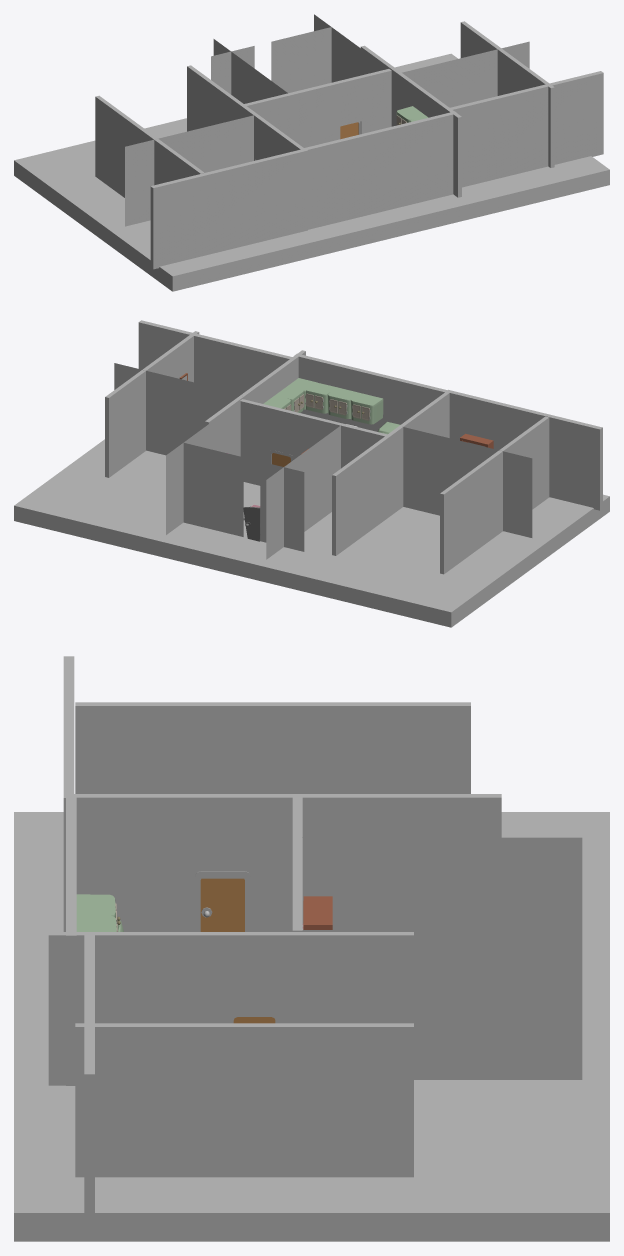
The model's file is Rose and Kirk.fbx.
The picture shows the model from 3 angles, top to bottom: view 1: azimuth 30°, elevation 25°; view 2: azimuth 150°, elevation 25°; view 3: azimuth 270°, elevation 25°; orthographic projection. The views are drawn at different scales.
Visible parts, largest first — view 1: Cube__1_, Cube__10_, Cube__4_, Cube__7_, Quad__4_, Cube__9_, Cube__5_, Quad__5_, Quad__6_, Cube__8_, Cube__11_, Cube (+9 smaller); view 2: Cube__1_, Cube__10_, Cube__9_, Quad__4_, Cube__11_, Cube__7_, Quad__5_, Quad__6_, Cube__8_, Cube__4_, Quad__1_, Quad (+11 smaller); view 3: Cube__1_, Cube__8_, Cube__9_, Quad, Quad__1_, Cube__13_, Cube__3_, Cube__11_, Cube__2_, Cube__14_, Cube__12_, Cube__7_ (+7 smaller).
Boxes of the visible parts, bbox=[...] form: Cube__1_: bbox=[14, 53, 609, 291]; Cube__10_: bbox=[150, 149, 307, 269]; Cube__4_: bbox=[300, 111, 457, 229]; Cube__7_: bbox=[448, 71, 603, 187]; Quad__4_: bbox=[125, 115, 253, 226]; Cube__9_: bbox=[95, 95, 204, 197]; Cube__5_: bbox=[242, 82, 340, 147]; Quad__5_: bbox=[402, 41, 529, 107]; Quad__6_: bbox=[271, 27, 331, 93]; Cube__8_: bbox=[460, 21, 554, 167]; Cube__11_: bbox=[187, 65, 257, 160]; Cube: bbox=[360, 69, 391, 133]; Cube__1_: bbox=[14, 439, 609, 627]; Cube__10_: bbox=[445, 389, 602, 510]; Cube__9_: bbox=[440, 416, 549, 574]; Quad__4_: bbox=[403, 427, 532, 537]; Cube__11_: bbox=[332, 426, 404, 555]; Cube__7_: bbox=[138, 320, 294, 393]; Quad__5_: bbox=[114, 363, 241, 455]; Quad__6_: bbox=[183, 443, 243, 536]; Cube__8_: bbox=[105, 331, 199, 477]; Cube__4_: bbox=[294, 354, 449, 437]; Quad__1_: bbox=[266, 425, 340, 559]; Quad: bbox=[166, 401, 240, 534]; Cube__1_: bbox=[14, 812, 609, 1241]; Cube__8_: bbox=[75, 1023, 413, 1177]; Cube__9_: bbox=[75, 702, 470, 793]; Quad: bbox=[302, 930, 582, 1079]; Quad__1_: bbox=[302, 837, 582, 929]; Cube__13_: bbox=[48, 932, 228, 1085]; Cube__3_: bbox=[76, 794, 199, 931]; Cube__11_: bbox=[245, 794, 501, 931]; Cube__2_: bbox=[275, 932, 413, 1023]; Cube__14_: bbox=[218, 932, 284, 1015]; Cube__12_: bbox=[195, 794, 248, 878]; Cube__7_: bbox=[84, 932, 94, 1226].
Size of the model in its own units: 317 by 63.35 by 191.
